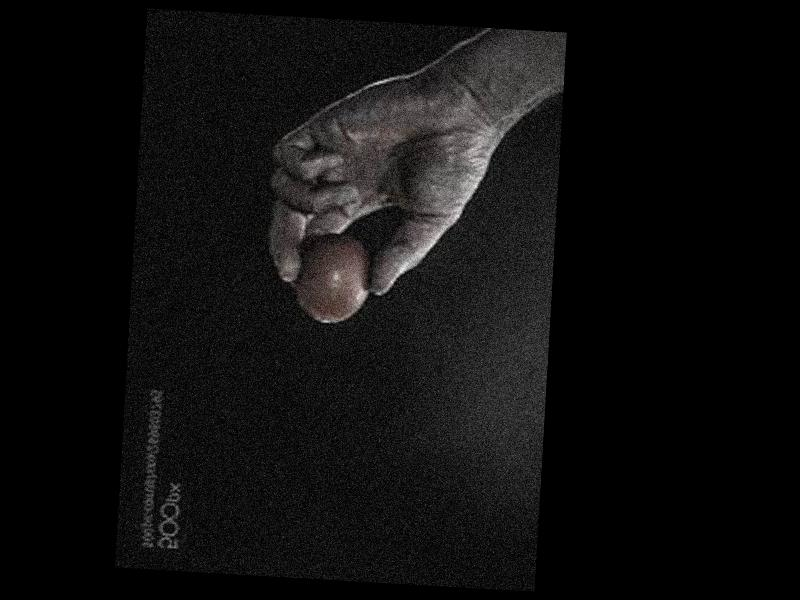Eggs: (294, 228, 375, 324)
